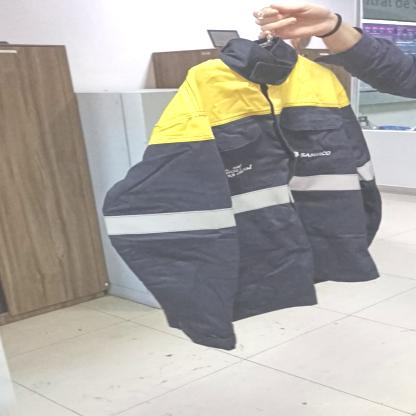C_eletrica: (99, 50, 393, 352)
